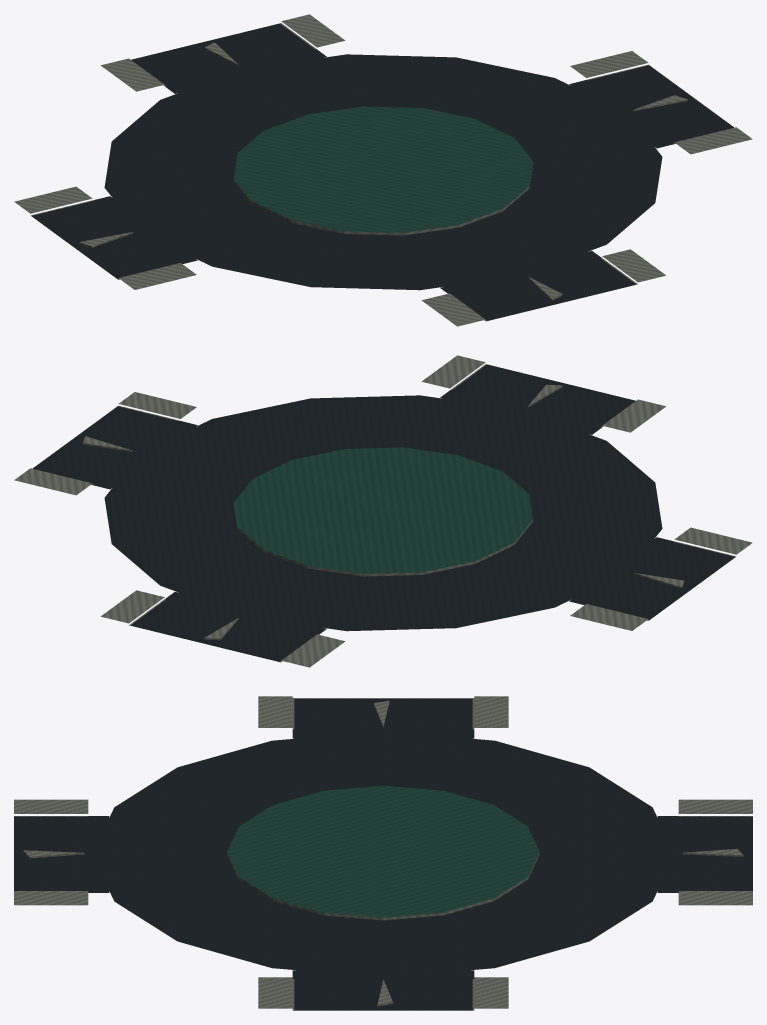
The model's file is junc_roundabout_2lane_ShadowProxy.glb.
3 views of the same model, one above another, from view 1: azimuth 30°, elevation 25°; view 2: azimuth 150°, elevation 25°; view 3: azimuth 270°, elevation 25° (orthographic). The views are drawn at different scales.
Parts seen in each view (by area): view 1: junc_roundabout_2lane__surface.003, junc_roundabout_2lane__center_island.003, junc_roundabout_2lane__entry_ports.003, junc_roundabout_2lane__entry_sidewalks.003, junc_roundabout_2lane__splitter_islands.003; view 2: junc_roundabout_2lane__surface.003, junc_roundabout_2lane__center_island.003, junc_roundabout_2lane__entry_ports.003, junc_roundabout_2lane__entry_sidewalks.003, junc_roundabout_2lane__splitter_islands.003; view 3: junc_roundabout_2lane__surface.003, junc_roundabout_2lane__center_island.003, junc_roundabout_2lane__entry_ports.003, junc_roundabout_2lane__entry_sidewalks.003, junc_roundabout_2lane__splitter_islands.003.
Part boxes in pixels (x1,y1,x2,y2): junc_roundabout_2lane__surface.003: [104, 54, 662, 290]; junc_roundabout_2lane__center_island.003: [233, 106, 533, 235]; junc_roundabout_2lane__entry_ports.003: [31, 23, 733, 320]; junc_roundabout_2lane__entry_sidewalks.003: [14, 14, 752, 326]; junc_roundabout_2lane__splitter_islands.003: [79, 42, 687, 300]; junc_roundabout_2lane__surface.003: [104, 395, 662, 631]; junc_roundabout_2lane__center_island.003: [233, 447, 533, 576]; junc_roundabout_2lane__entry_ports.003: [33, 364, 735, 661]; junc_roundabout_2lane__entry_sidewalks.003: [14, 355, 752, 667]; junc_roundabout_2lane__splitter_islands.003: [82, 384, 684, 640]; junc_roundabout_2lane__surface.003: [92, 731, 674, 977]; junc_roundabout_2lane__center_island.003: [227, 785, 539, 920]; junc_roundabout_2lane__entry_ports.003: [14, 698, 752, 1010]; junc_roundabout_2lane__entry_sidewalks.003: [14, 696, 752, 1010]; junc_roundabout_2lane__splitter_islands.003: [23, 700, 743, 1006].
Bounding box in the file's own units: 52 × 0.214 × 52.
Materials: 4 (4 with a texture image).
